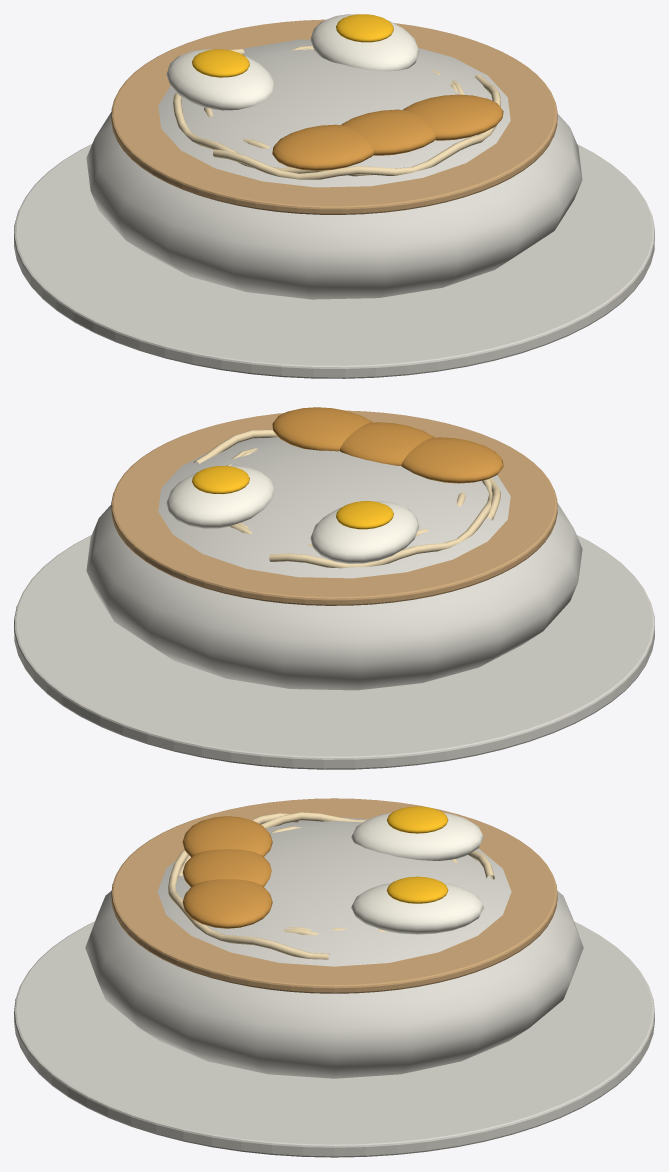
The model's file is tonkotsu-ramen.glb.
3 renders of one model, top to bottom at view 1: azimuth 30°, elevation 25°; view 2: azimuth 150°, elevation 25°; view 3: azimuth 270°, elevation 25°, orthographic.
Parts seen in each view (by area): view 1: 27cm demo plate, Bowl, Broth surface, Egg white.001, Egg white, Pork slice.001, Pork slice, Pork slice.002, Noodle.016, Egg yolk, Egg yolk.001, Noodle.026; view 2: 27cm demo plate, Bowl, Broth surface, Egg white.001, Egg white, Pork slice.001, Pork slice, Pork slice.002, Noodle.026, Egg yolk.001, Egg yolk, Noodle.016; view 3: 27cm demo plate, Bowl, Broth surface, Egg white, Egg white.001, Pork slice, Pork slice.001, Pork slice.002, Noodle.016, Egg yolk.001, Egg yolk, Noodle.026.
Boxes of the visible parts, box(x1,y1,x2,y2) form: 27cm demo plate: box(14, 144, 654, 378); Bowl: box(86, 39, 582, 299); Broth surface: box(111, 19, 557, 214); Egg white.001: box(166, 49, 274, 110); Egg white: box(310, 14, 419, 71); Pork slice.001: box(272, 124, 374, 170); Pork slice: box(403, 94, 503, 140); Pork slice.002: box(341, 109, 435, 155); Noodle.016: box(213, 74, 500, 179); Egg yolk: box(336, 14, 393, 42); Egg yolk.001: box(192, 49, 249, 77); Noodle.026: box(173, 49, 372, 176); 27cm demo plate: box(14, 535, 654, 769); Bowl: box(86, 437, 582, 690); Broth surface: box(111, 410, 557, 605); Egg white.001: box(310, 501, 419, 563); Egg white: box(166, 466, 274, 528); Pork slice.001: box(401, 437, 503, 483); Pork slice: box(272, 407, 372, 451); Pork slice.002: box(339, 422, 434, 465); Noodle.026: box(269, 478, 492, 568); Egg yolk.001: box(336, 501, 393, 529); Egg yolk: box(192, 466, 249, 494); Noodle.016: box(193, 430, 500, 520); 27cm demo plate: box(14, 921, 654, 1157); Bowl: box(85, 817, 583, 1078); Broth surface: box(111, 798, 557, 993); Egg white: box(351, 883, 483, 934); Egg white.001: box(351, 812, 483, 860); Pork slice: box(182, 879, 272, 928); Pork slice.001: box(182, 816, 272, 856); Pork slice.002: box(182, 849, 271, 886); Noodle.016: box(168, 813, 329, 959); Egg yolk.001: box(387, 806, 448, 833); Egg yolk: box(386, 876, 448, 903); Noodle.026: box(178, 812, 494, 879).
Size of the model in its own units: 0.27 by 0.083 by 0.27.
